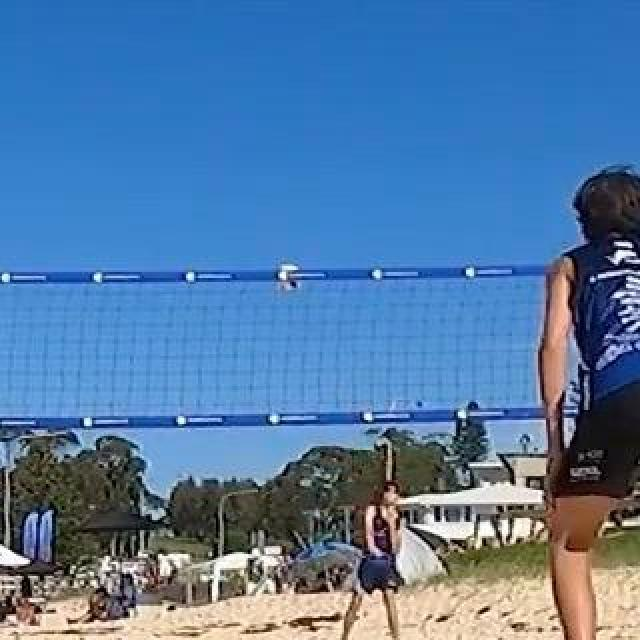volleyball: (274, 264, 302, 292)
